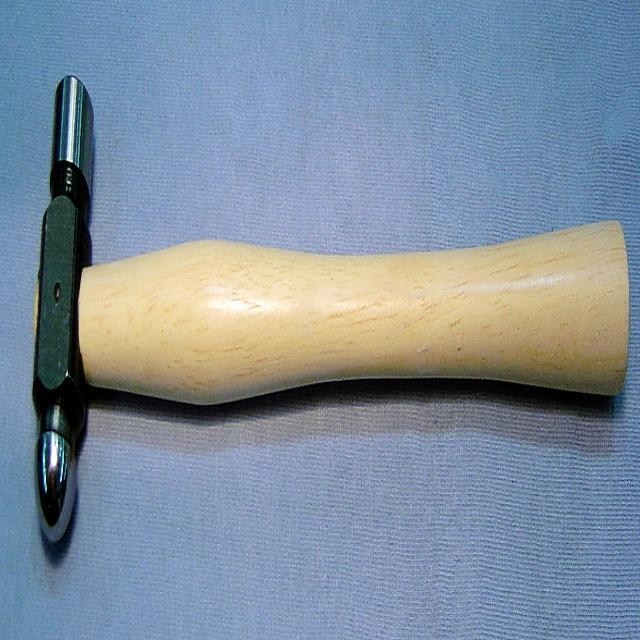hammer: (23, 49, 632, 588)
